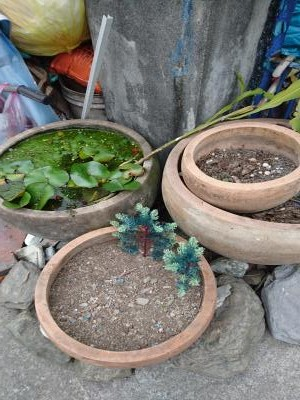bowl: (1, 118, 161, 244), (179, 119, 300, 216)
plastic_bag: (1, 1, 93, 61)
